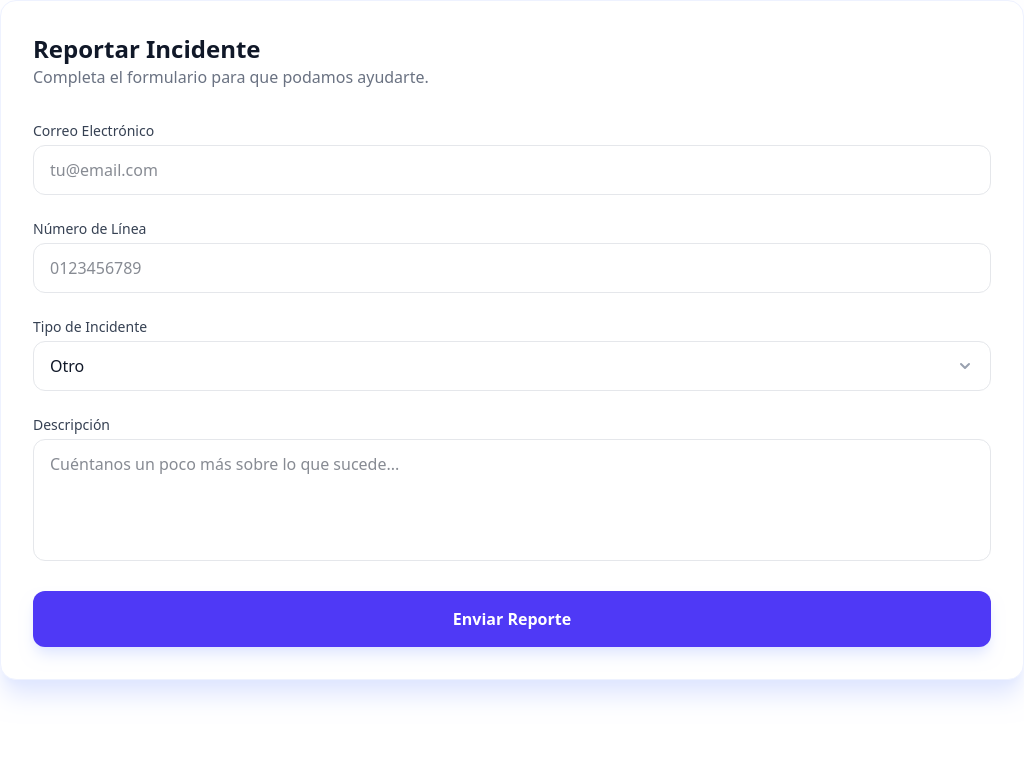
Test: IncidentForm › shows error when submission fails
The image size is (1024, 768).
Note: Fill valid data (use NO_SERVICE to avoid description requirement from OTHER)
Type "fail@test.com" into the field labelled "Correo Electrónico" at (512, 170), box top-left (33, 145), bottom-right (991, 195)
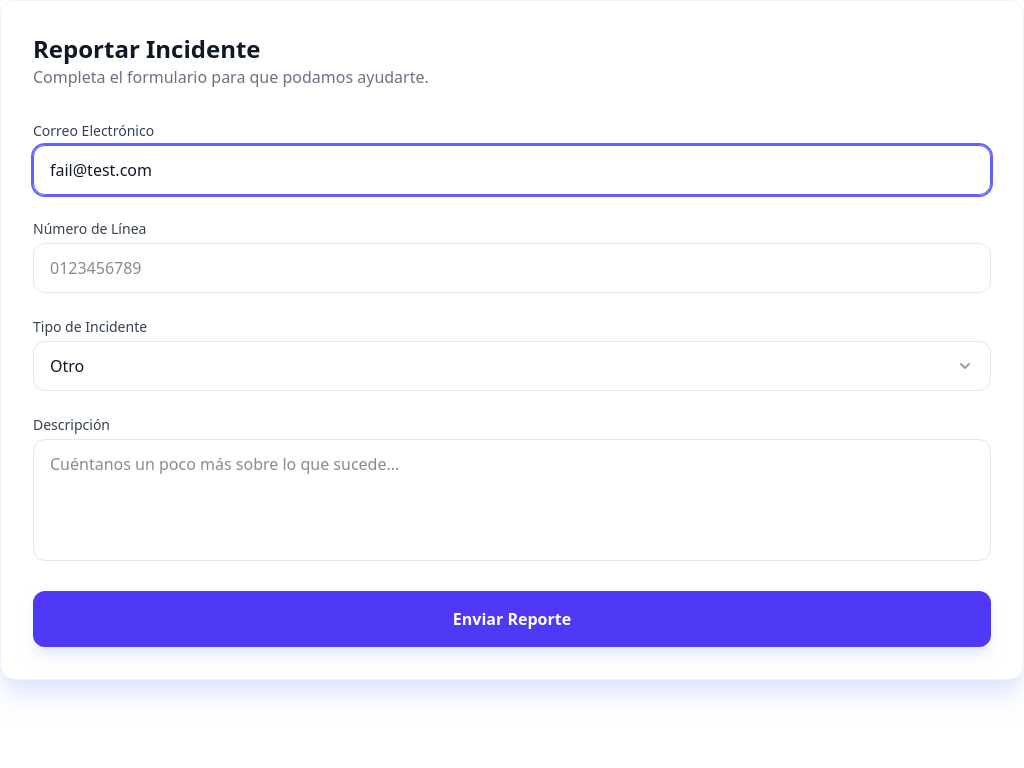
Type "0991234567" into the field labelled "Número de Línea" at (512, 268), box top-left (33, 243), bottom-right (991, 293)
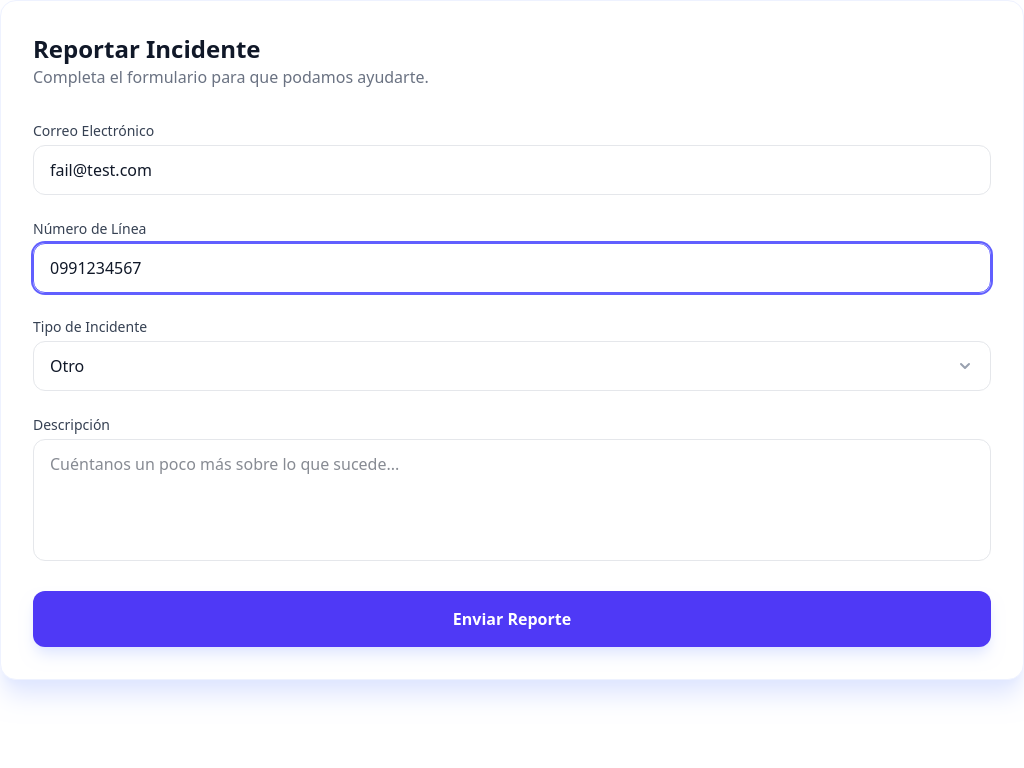
Select "Sin servicio" in the dropdown labelled "Tipo de Incidente" at (512, 366), box top-left (33, 341), bottom-right (991, 391)
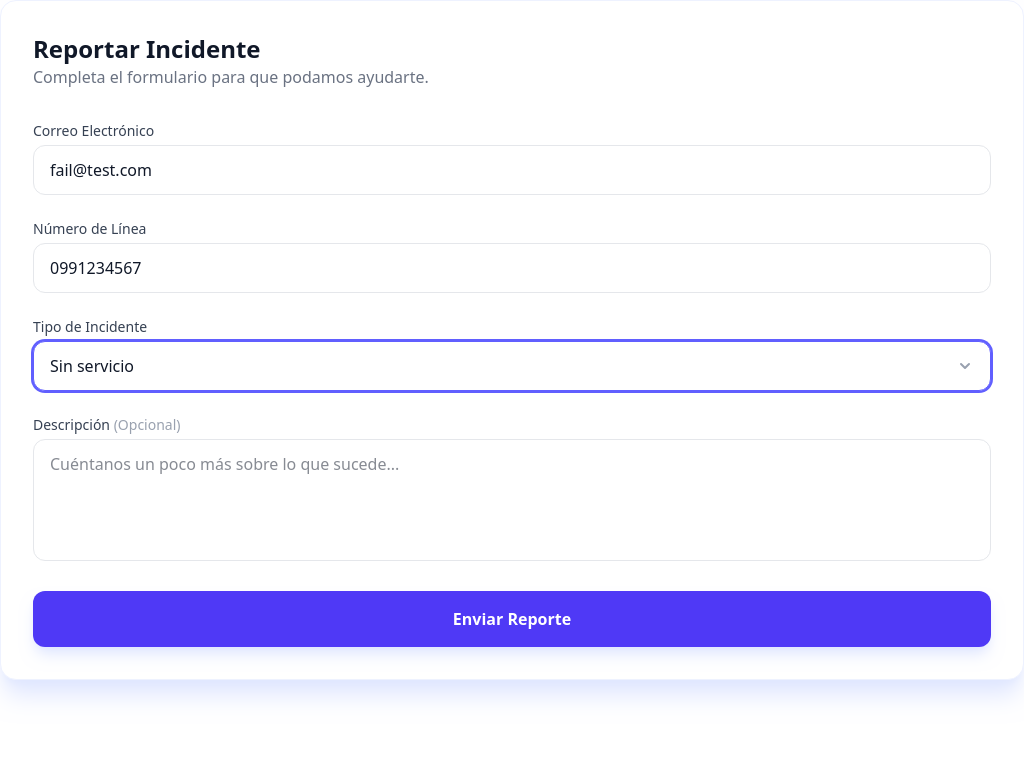
Click the button "Enviar Reporte" at (512, 619), box top-left (33, 591), bottom-right (991, 647)
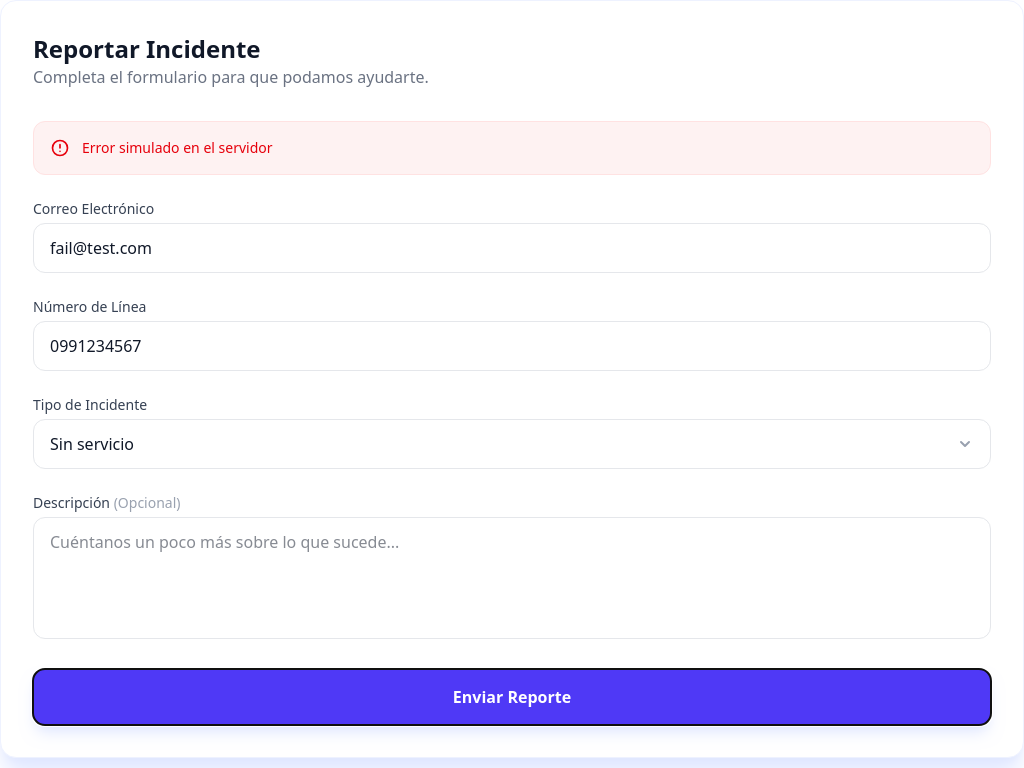
Check: the text "Error simulado en el servidor" is shown, box top-left (33, 121), bottom-right (991, 175)
